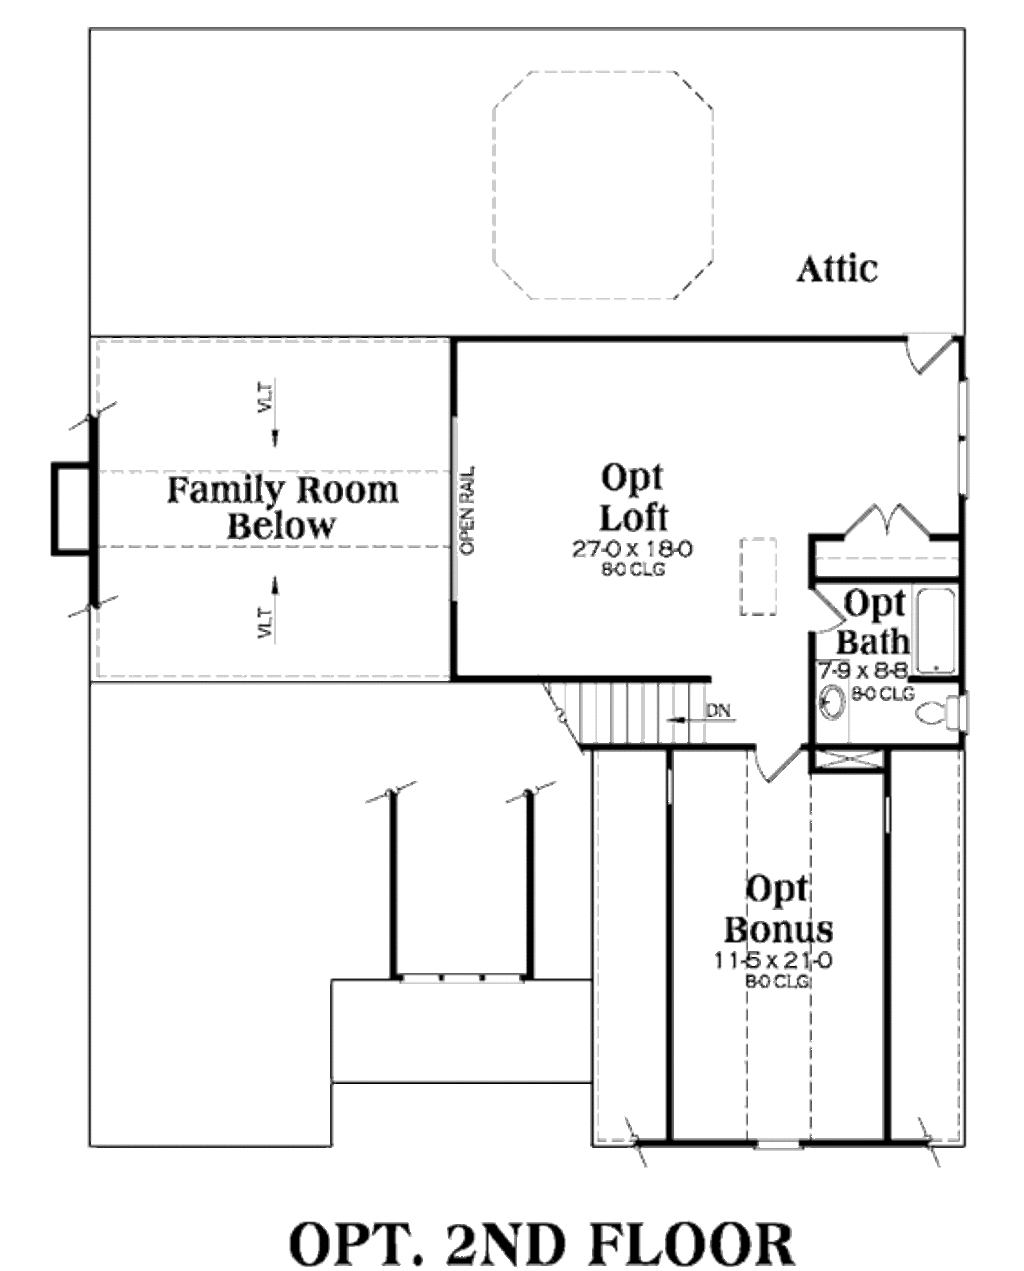door: (824, 488, 945, 544), (901, 323, 951, 381), (745, 735, 806, 783), (793, 586, 847, 631)
large_sink: (895, 690, 970, 744)
small_sink: (806, 660, 850, 744)
stairs: (522, 677, 760, 754)
tub: (899, 578, 962, 688)
window: (399, 965, 510, 983), (755, 1131, 801, 1150)
